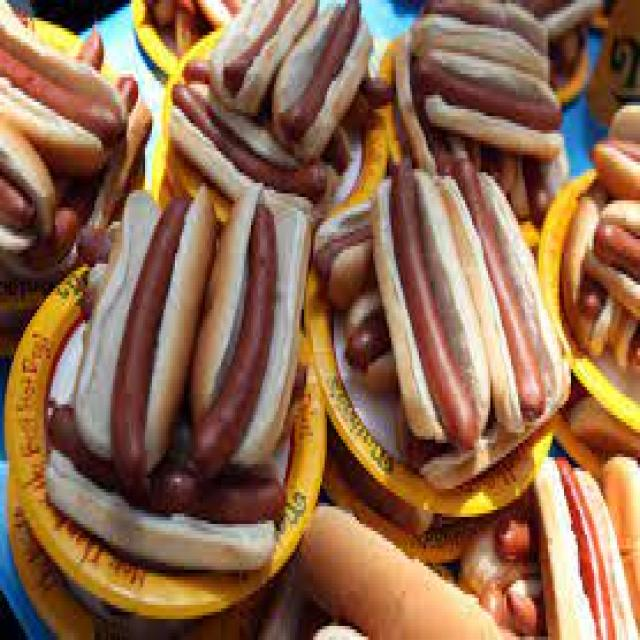Hot Dog: (100, 210, 318, 477), (376, 182, 568, 434), (193, 0, 390, 155)
